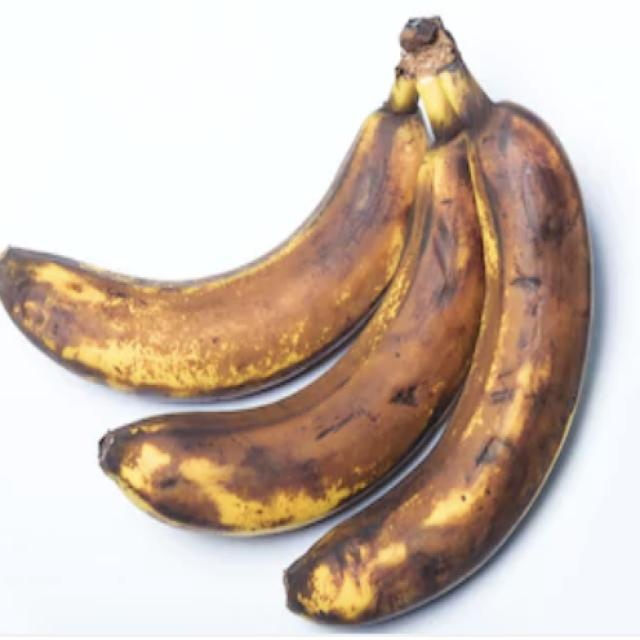banana: (287, 21, 590, 624), (100, 140, 483, 535), (0, 80, 427, 397)
